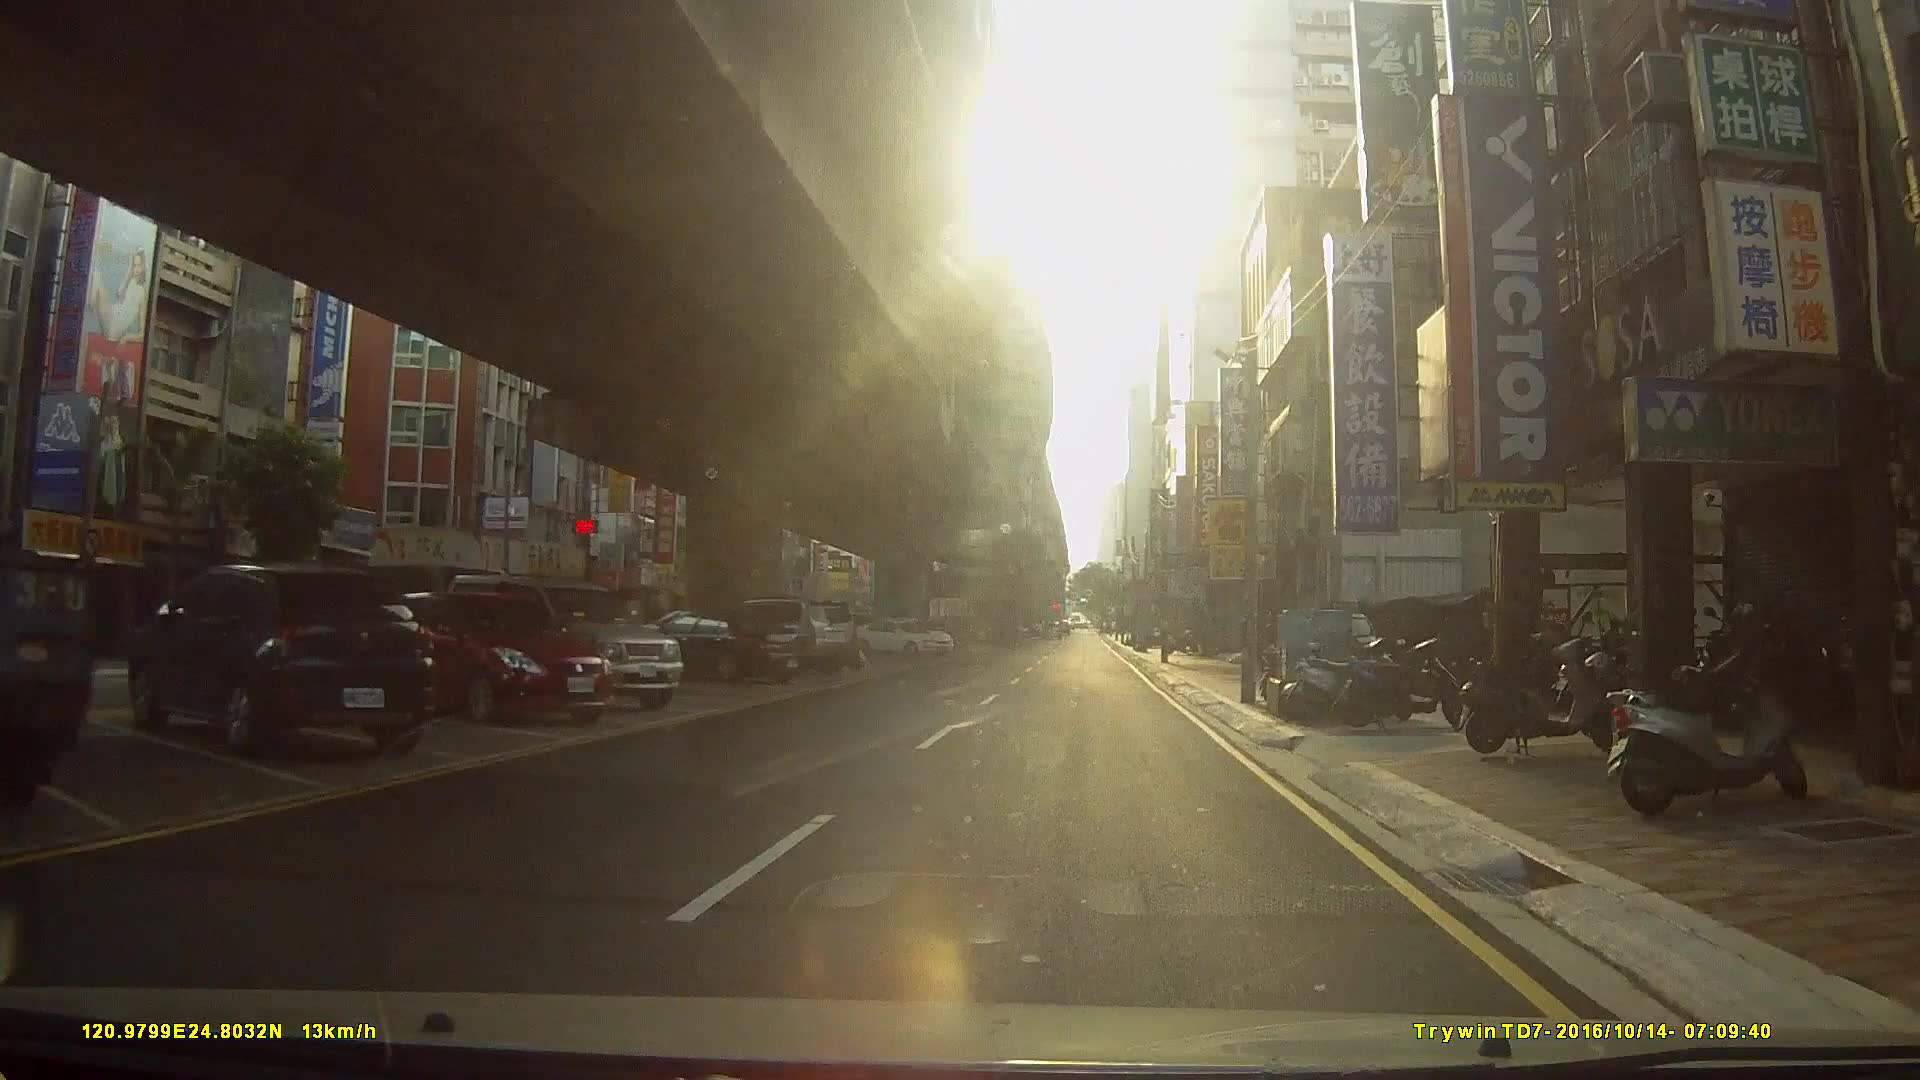vehicle: (127, 560, 433, 753), (442, 568, 684, 713), (386, 587, 615, 727), (0, 547, 102, 810), (629, 608, 811, 684), (705, 595, 860, 675), (851, 617, 953, 658)
